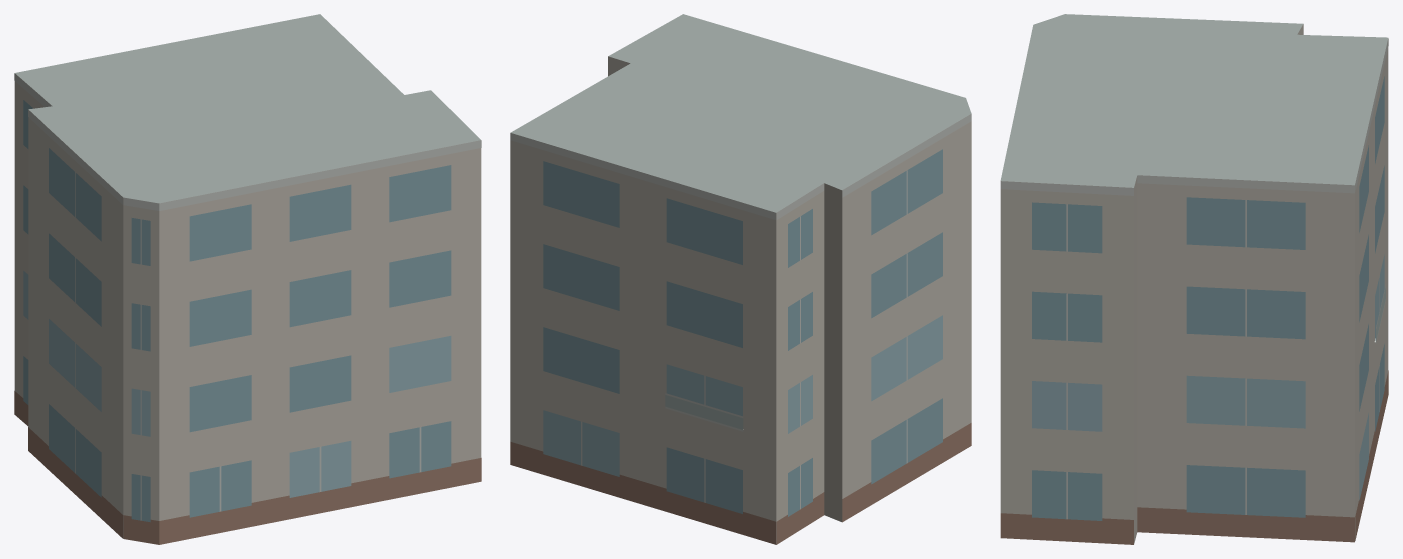
File: survey-upis-33027178.glb
The picture shows the model from 3 angles, left to right: view 1: azimuth 30°, elevation 25°; view 2: azimuth 150°, elevation 25°; view 3: azimuth 270°, elevation 25°; orthographic projection. The views are drawn at different scales.
Visible parts, largest first — view 1: survey-upis-33027178.tmp; view 2: survey-upis-33027178.tmp; view 3: survey-upis-33027178.tmp.
Boxes of the visible parts, box(x1,y1,x2,y2) form: survey-upis-33027178.tmp: box(14, 14, 481, 544); survey-upis-33027178.tmp: box(510, 14, 971, 544); survey-upis-33027178.tmp: box(1000, 14, 1388, 544).
Size of the model in its own units: 11.25 by 10.76 by 10.61.
